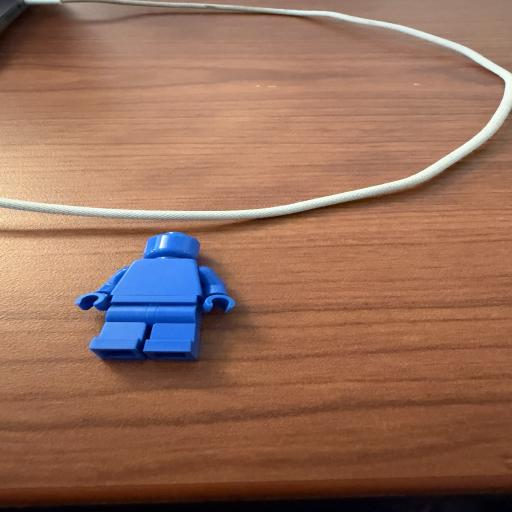Minifig: (73, 231, 236, 362)
